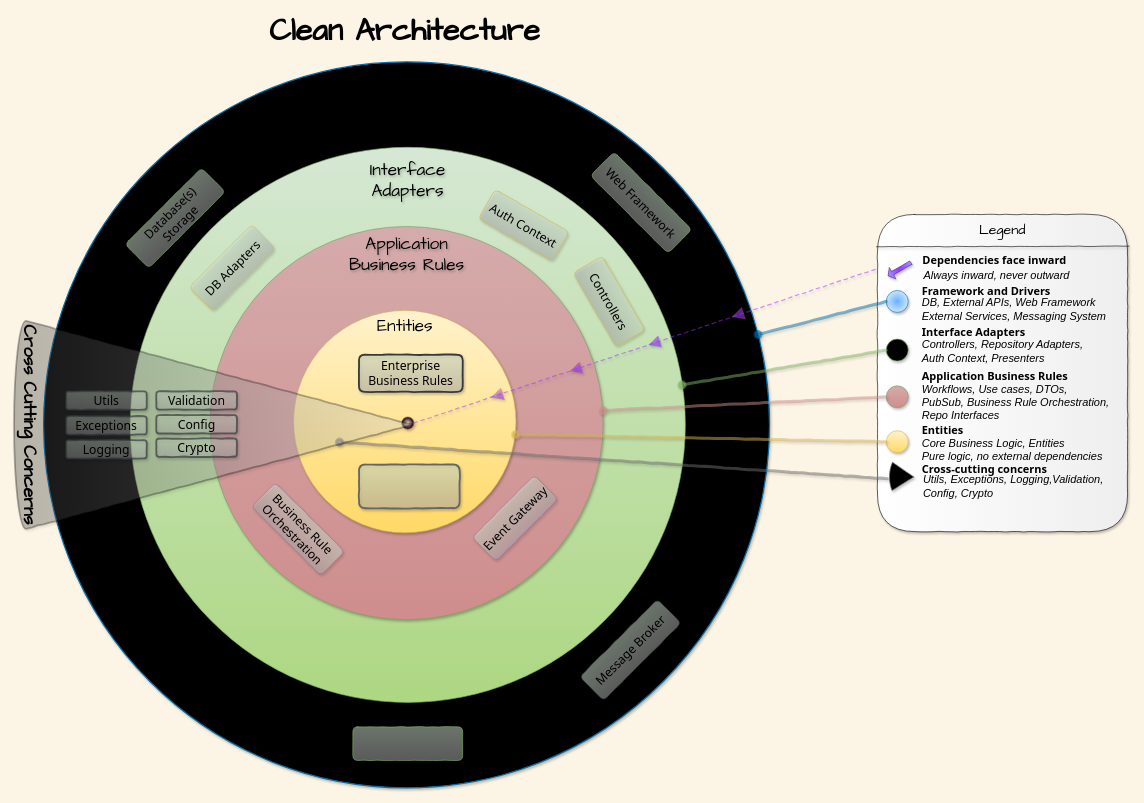
This 1144x803 diagram has some shape labels left out. Here are the shapes that lost their labels. From the top down, the centre of each, then its label:
At (409,487): "DB-Agnostics Models and Definitions".
At (408,744): "External Services".
